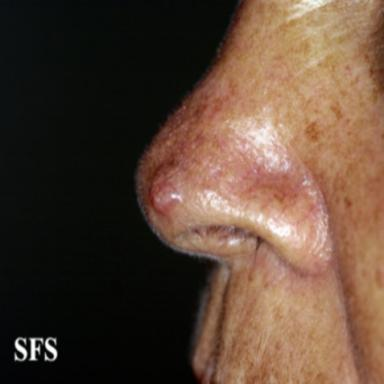basal-cell-carcinoma: (149, 159, 187, 214)
